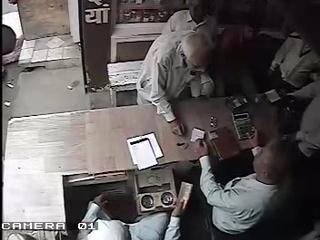Normal: (176, 126, 296, 240), (136, 30, 225, 138), (76, 172, 194, 239)
